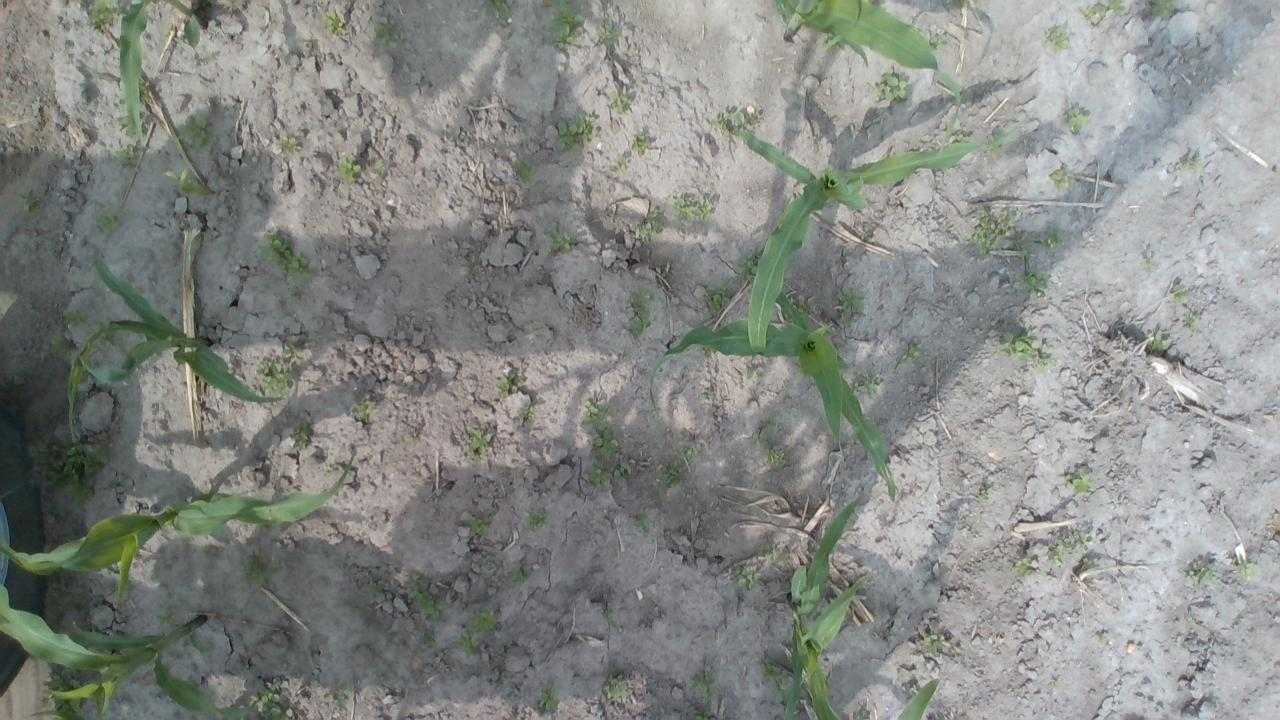Maize: (736, 123, 1022, 360), (0, 450, 351, 609), (648, 291, 899, 502), (70, 250, 284, 442), (0, 582, 248, 720), (768, 0, 964, 146), (783, 496, 869, 720), (119, 0, 200, 140), (892, 678, 938, 720)
Weeds: (33, 434, 110, 508), (968, 209, 1032, 261), (258, 230, 312, 281), (453, 602, 496, 656), (580, 400, 618, 459), (757, 659, 794, 705), (548, 0, 584, 47), (662, 447, 702, 488), (556, 114, 598, 153), (163, 166, 209, 199), (995, 328, 1036, 364), (710, 109, 759, 139), (256, 684, 294, 720), (256, 361, 295, 396), (835, 285, 867, 327), (42, 670, 84, 702), (671, 194, 714, 225), (871, 70, 912, 102), (688, 664, 719, 703), (629, 289, 654, 337), (410, 588, 448, 619), (179, 115, 215, 146), (88, 0, 120, 33), (1018, 266, 1051, 296), (920, 632, 959, 657), (241, 556, 273, 586), (1186, 559, 1218, 588), (735, 252, 760, 288), (702, 281, 731, 311), (468, 428, 491, 462), (734, 562, 760, 592), (50, 698, 85, 720), (1048, 166, 1076, 192), (290, 422, 314, 452), (60, 304, 87, 330), (96, 207, 120, 235), (496, 374, 526, 396), (338, 154, 359, 184), (604, 674, 630, 698), (588, 462, 610, 490), (549, 228, 573, 253), (1145, 330, 1168, 356), (49, 334, 72, 360), (642, 209, 664, 236), (610, 86, 631, 114), (1046, 25, 1070, 49), (1064, 106, 1088, 130), (538, 686, 560, 712), (512, 158, 534, 182), (114, 144, 138, 166), (374, 22, 394, 48), (281, 343, 308, 362), (466, 515, 488, 538), (320, 9, 342, 32), (1036, 344, 1056, 369), (902, 343, 922, 368), (1048, 542, 1066, 569), (1070, 475, 1092, 496), (1149, 0, 1176, 17), (528, 510, 552, 529), (1044, 232, 1064, 254), (1234, 560, 1254, 582), (1086, 5, 1106, 25), (766, 446, 786, 466), (485, 0, 510, 16), (863, 374, 882, 395), (274, 136, 297, 153), (1172, 284, 1191, 304), (356, 400, 374, 421), (630, 132, 647, 154), (1012, 558, 1032, 576), (136, 80, 152, 102), (511, 565, 529, 584), (926, 32, 946, 49), (788, 298, 808, 314), (366, 583, 384, 600), (422, 629, 438, 648), (1182, 312, 1200, 328), (634, 512, 650, 530), (117, 114, 130, 135), (158, 607, 174, 624), (464, 255, 480, 272), (612, 463, 630, 478), (601, 606, 616, 624), (609, 156, 625, 172), (752, 431, 768, 447), (1184, 156, 1200, 172), (105, 331, 122, 346), (954, 132, 974, 144), (520, 404, 536, 418), (598, 29, 618, 40), (753, 544, 771, 556), (767, 414, 779, 432), (1106, 0, 1121, 14), (692, 711, 713, 720), (1081, 558, 1094, 572), (1079, 534, 1094, 546), (374, 160, 386, 175), (160, 25, 171, 41), (399, 434, 416, 444), (745, 366, 759, 378), (977, 489, 991, 501), (1144, 258, 1160, 268), (1186, 616, 1199, 628), (858, 232, 873, 242), (698, 388, 712, 398), (988, 144, 1002, 154), (22, 197, 33, 209), (1063, 536, 1075, 546), (854, 713, 870, 720), (334, 694, 344, 705), (958, 0, 971, 8), (1094, 634, 1104, 644), (1238, 617, 1248, 624)
